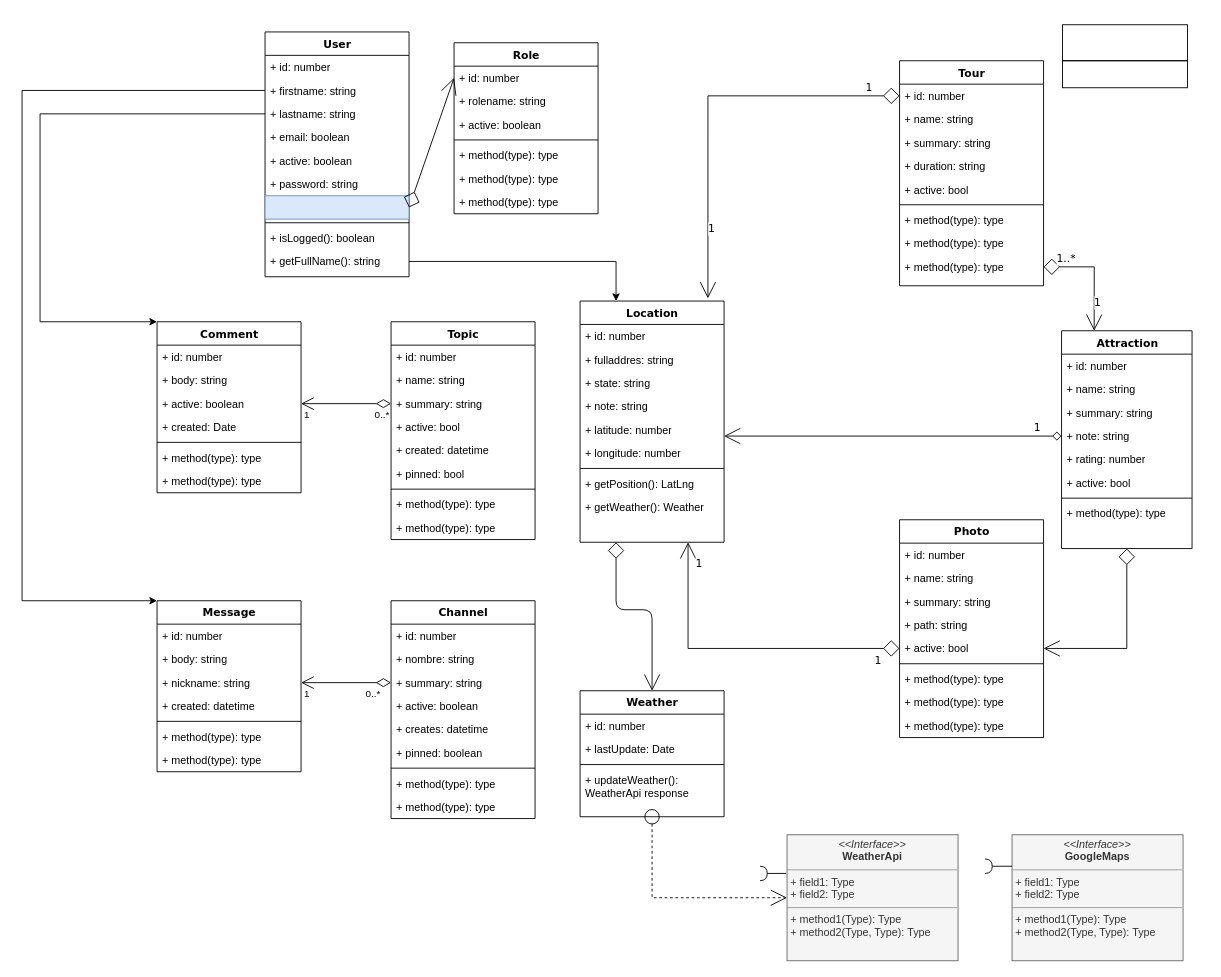
Some shapes in this 1221 by 977 pixel diagram are drawn without their labels. Here are the shapes that lost their labels. From the top down, the centre of each, then its label:
At (x=1125, y=42): "Diagrama de Clases GRUPO 1B VIAJAR365".
At (x=336, y=207): "+ roles: Role[]".
